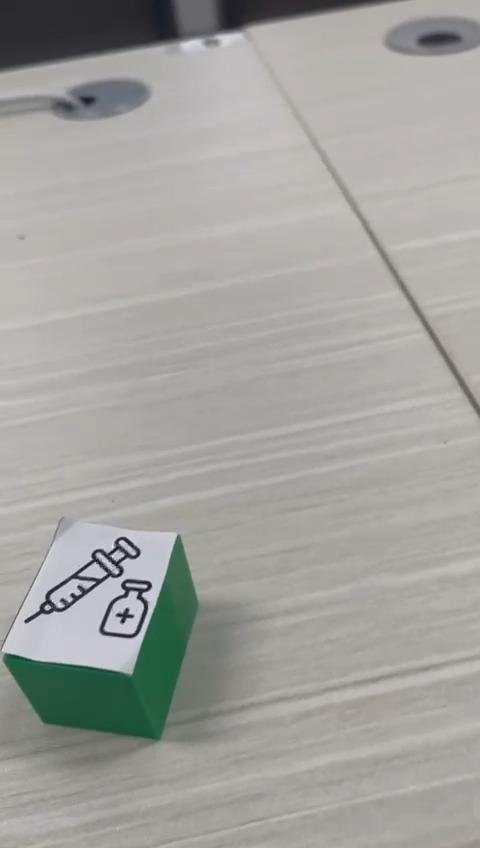antiseptic cream: (0, 514, 199, 740)
